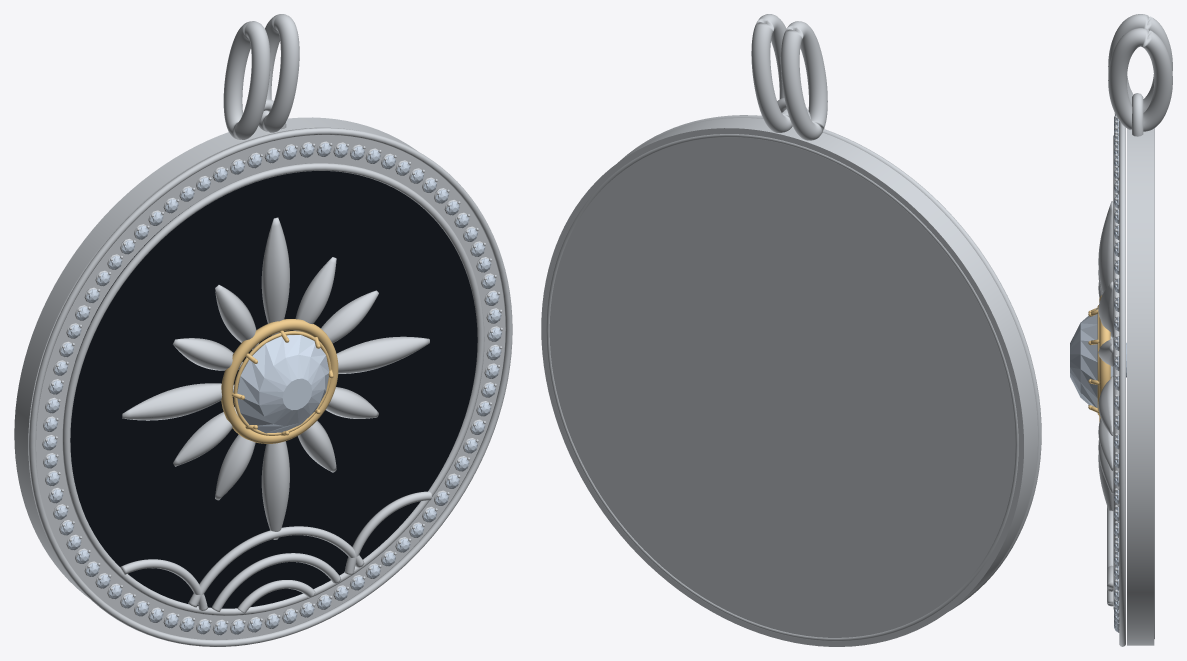
The model's file is emoria-lumen.glb.
The picture shows the model from 3 angles, left to right: view 1: azimuth 30°, elevation 25°; view 2: azimuth 150°, elevation 25°; view 3: azimuth 270°, elevation 25°; orthographic projection. The views are drawn at different scales.
Parts seen in each view (by area): view 1: Onyx enamel, Polished silver, Brilliant crystal, Warm gold; view 2: Polished silver; view 3: Polished silver, Brilliant crystal, Warm gold.
Part boxes in pixels (x1=…): Onyx enamel: x1=70, y1=171, x2=477, y2=608; Polished silver: x1=14, y1=14, x2=512, y2=646; Brilliant crystal: x1=43, y1=143, x2=502, y2=635; Warm gold: x1=221, y1=319, x2=338, y2=443; Polished silver: x1=541, y1=14, x2=1041, y2=646; Polished silver: x1=1098, y1=14, x2=1172, y2=646; Brilliant crystal: x1=1070, y1=115, x2=1126, y2=632; Warm gold: x1=1088, y1=295, x2=1110, y2=421.
Bounding box in the file's own units: 0.0281 × 0.0341 × 0.00527.
